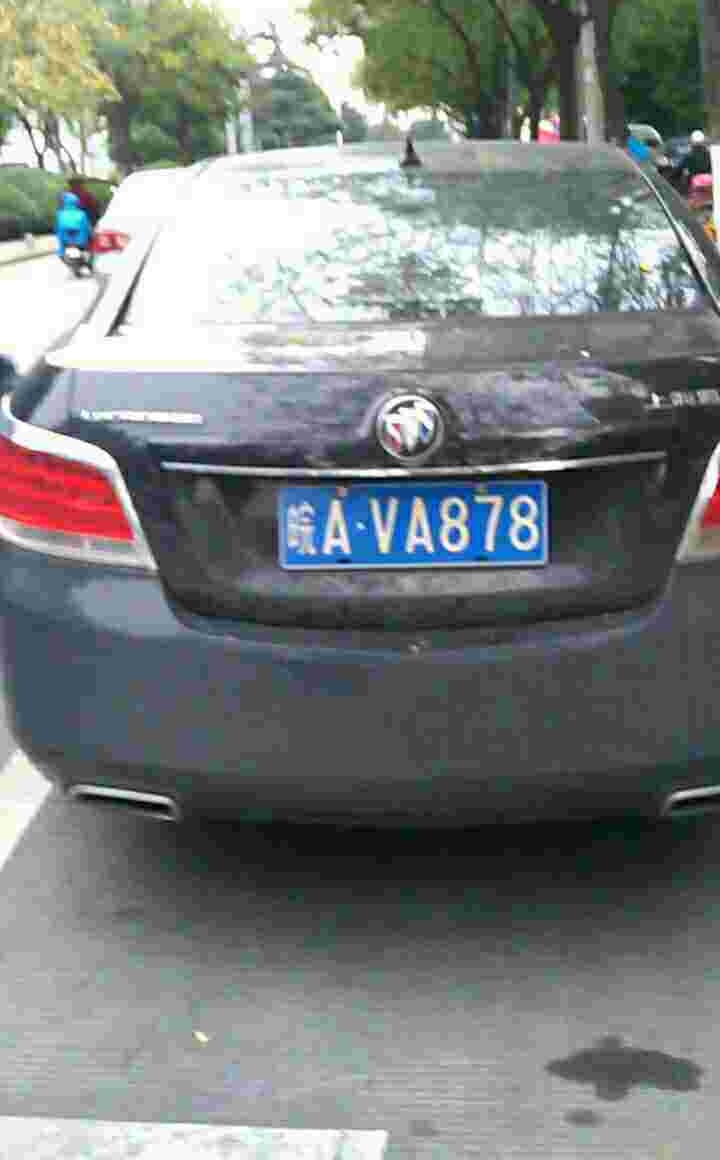license_plate: (266, 476, 544, 571)
